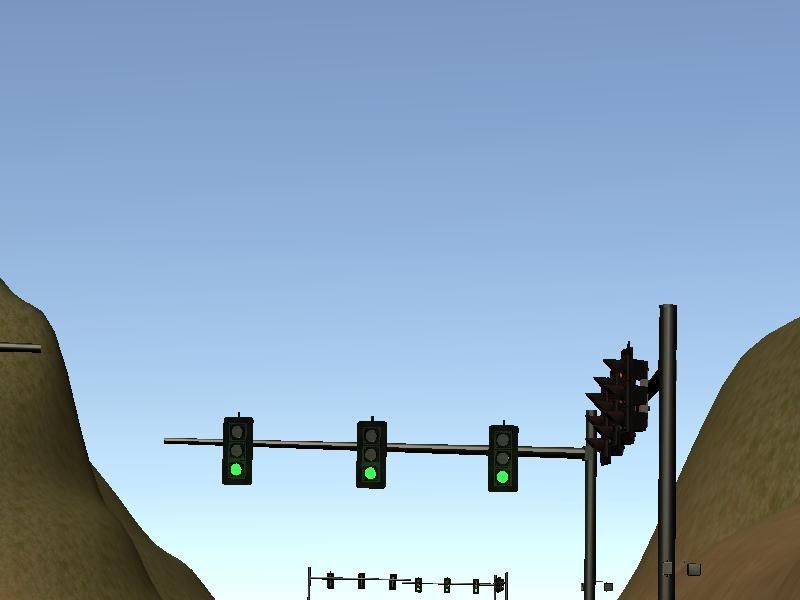GREEN: (486, 424, 520, 494), (354, 420, 386, 489), (222, 420, 252, 485)
